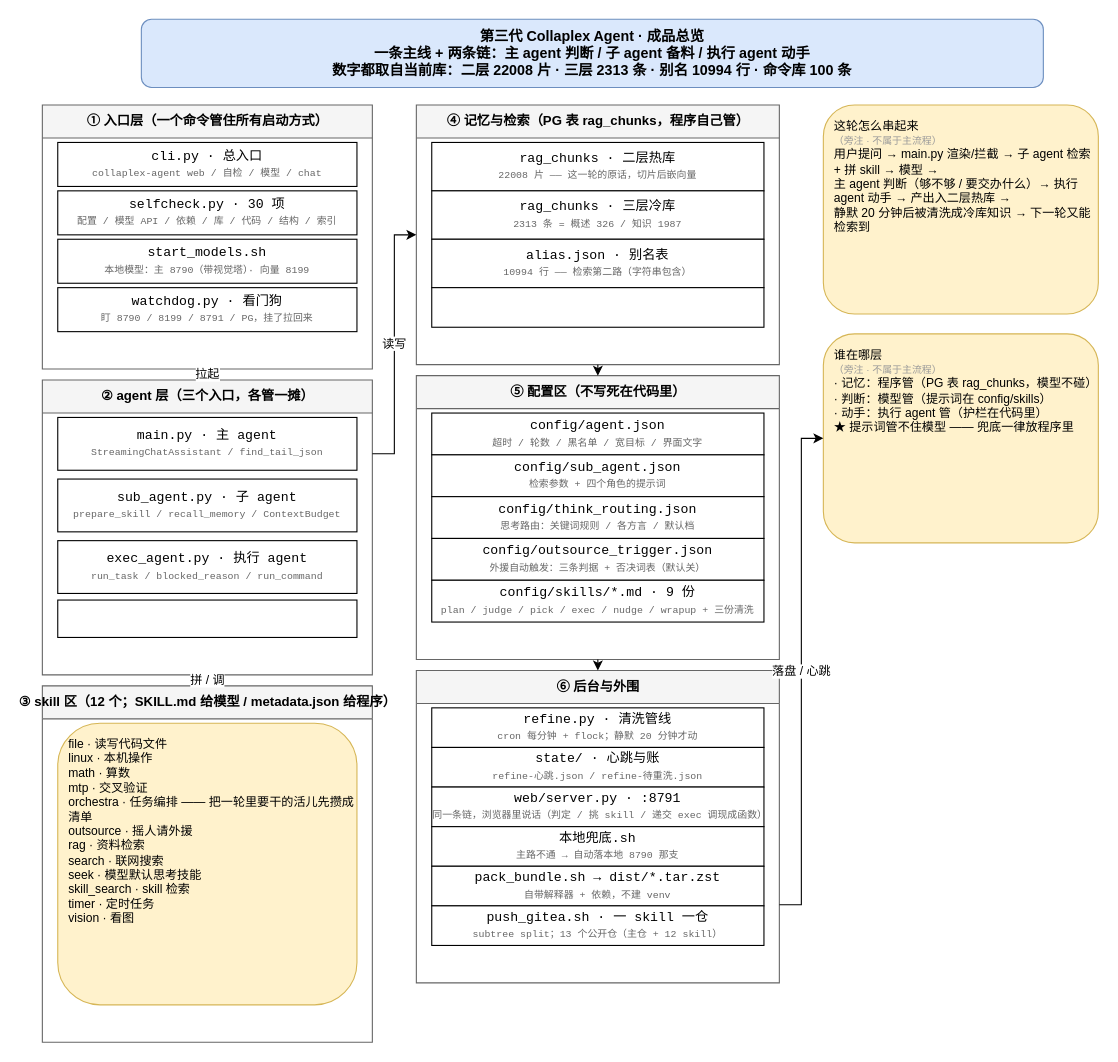
The diagram is 1118 pixels wide and 1062 high, and some of its shapes have lost their labels. Each missing label, with the centre of its shape:
commands-index.json 5 个库 / 100 条命令的检索索引: [597,307]
模型由 .env 定 主线三支：主模型 / 执行体 / 子 agent（没配就回落主模型）: [207,618]
